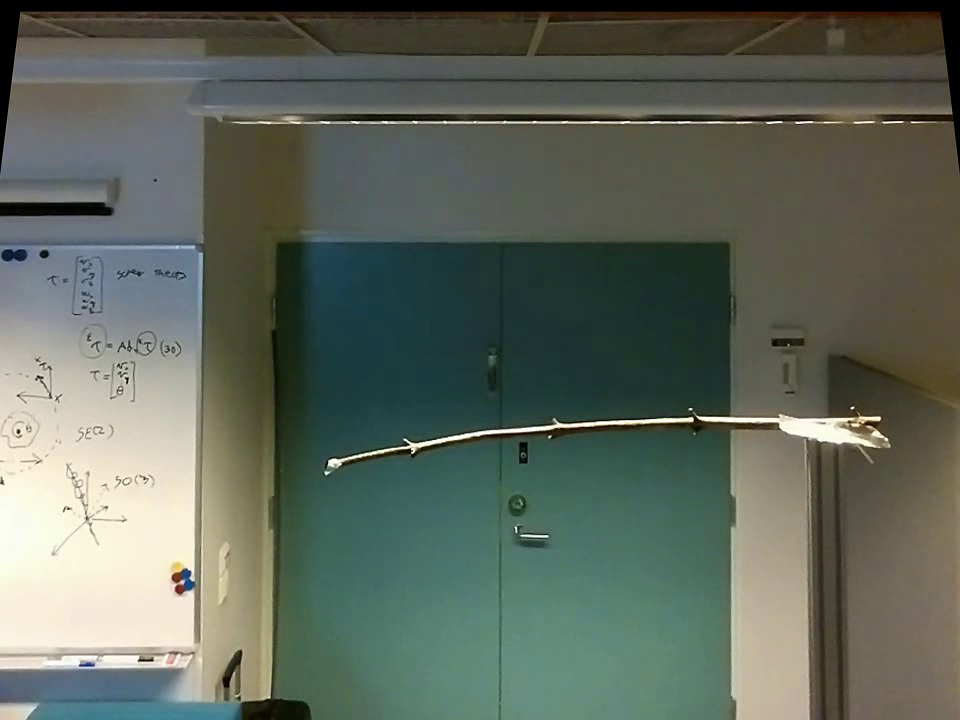aluminum_frame: (796, 433, 862, 716), (188, 242, 207, 645), (1, 642, 210, 677), (1, 236, 204, 258)
branch: (349, 395, 775, 473)
